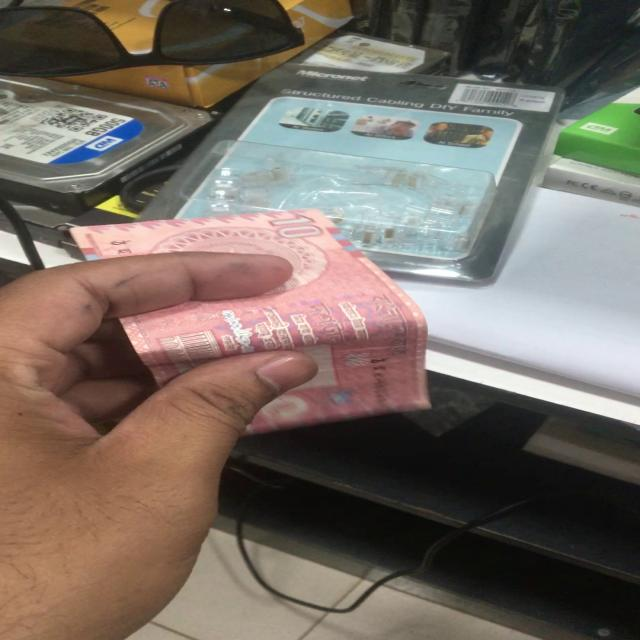Taka: (80, 208, 427, 414)
